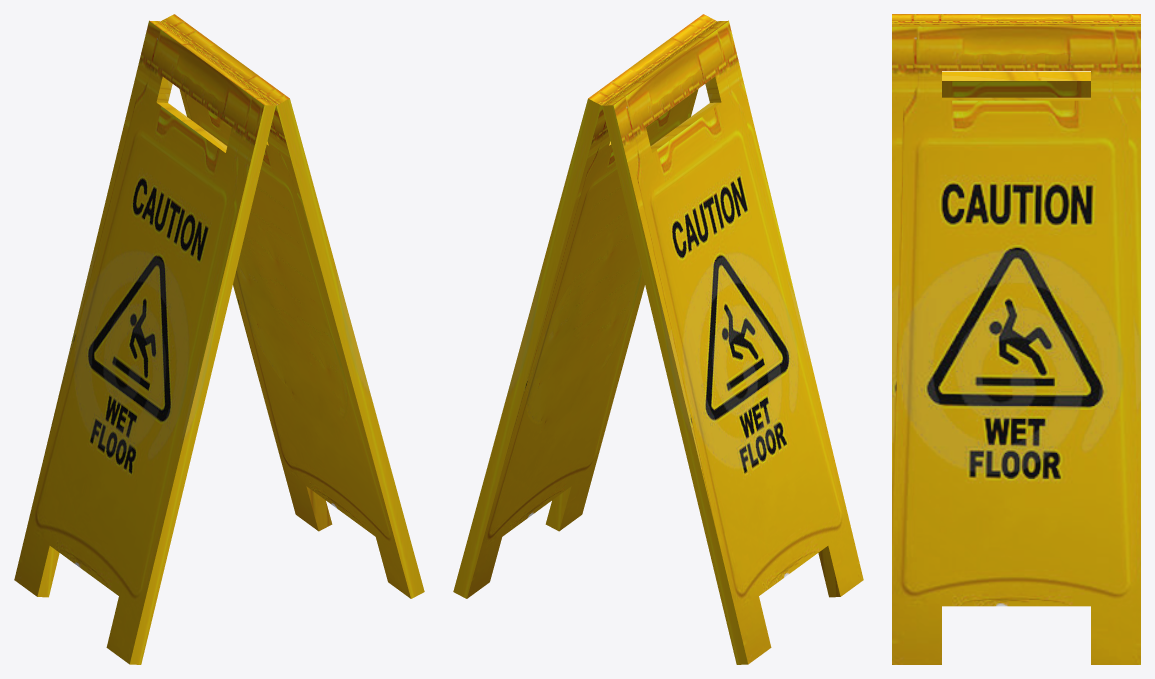
The model's file is SM_Sign_WetFloor.FBX.
3 renders of one model, left to right at view 1: azimuth 30°, elevation 25°; view 2: azimuth 150°, elevation 25°; view 3: azimuth 270°, elevation 25°, orthographic. The views are drawn at different scales.
Parts seen in each view (by area): view 1: SM_Sign_WetFloor; view 2: SM_Sign_WetFloor; view 3: SM_Sign_WetFloor.
Boxes of the visible parts, x1,y1,x2,y2 form: SM_Sign_WetFloor: (14, 14, 424, 664); SM_Sign_WetFloor: (453, 14, 863, 664); SM_Sign_WetFloor: (892, 14, 1140, 664).
Bounding box in the file's own units: 30.08 × 51.65 × 20.38.
